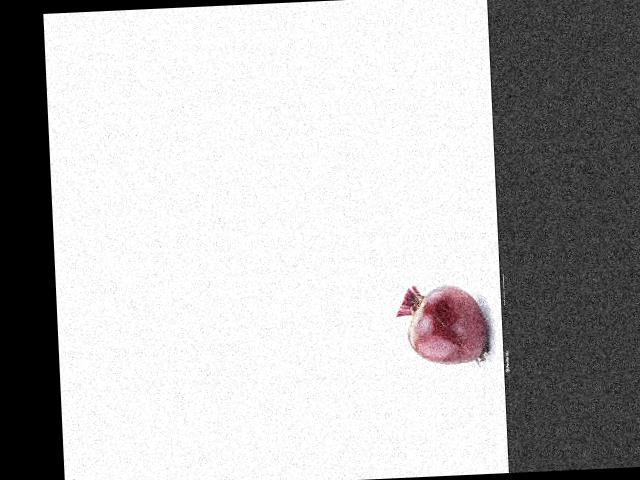beet: (395, 282, 488, 366)
